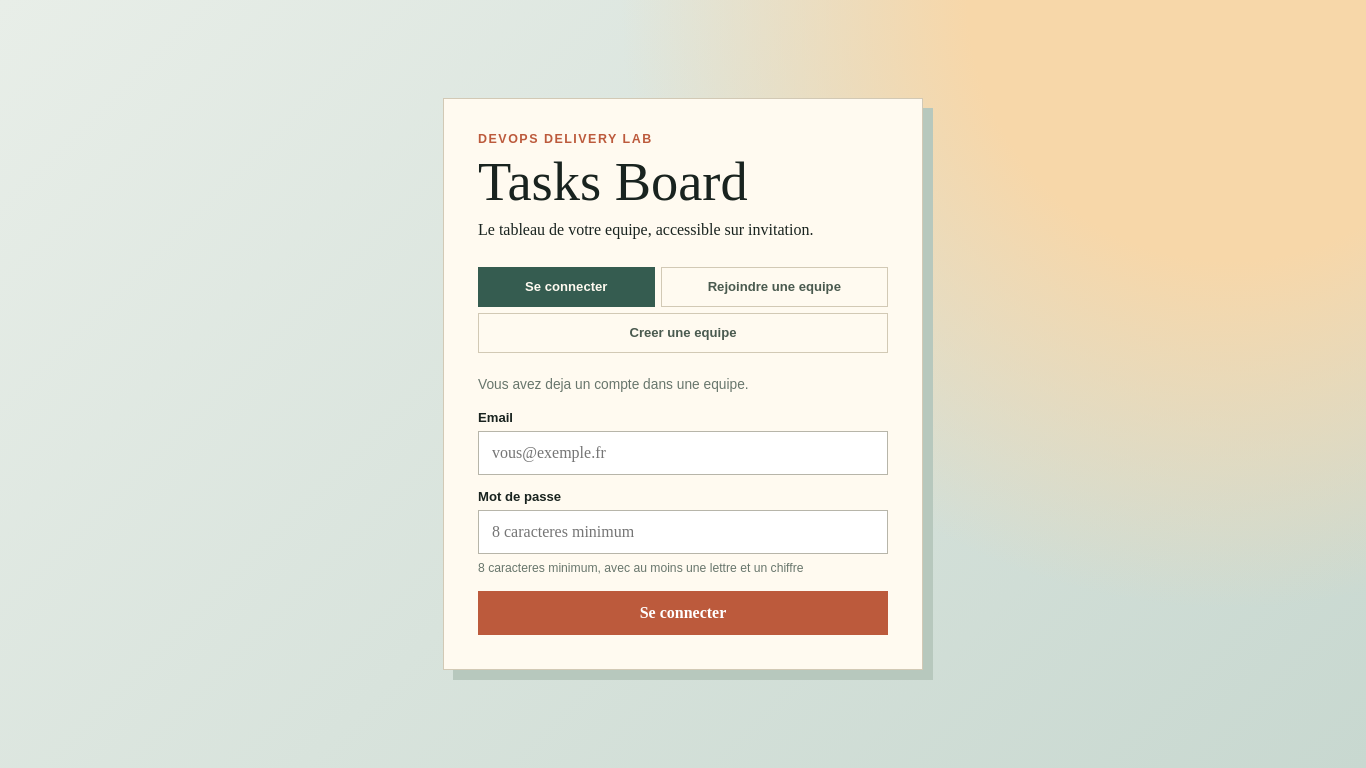
Test: Sans session › affiche le message d'erreur renvoye par l'API en cas d'identifiants faux
This screenshot has width=1366, height=768.
Step 1. Type "chef@tasks.local" into the field labelled "Email" → (683, 452), box [478,430,888,474]
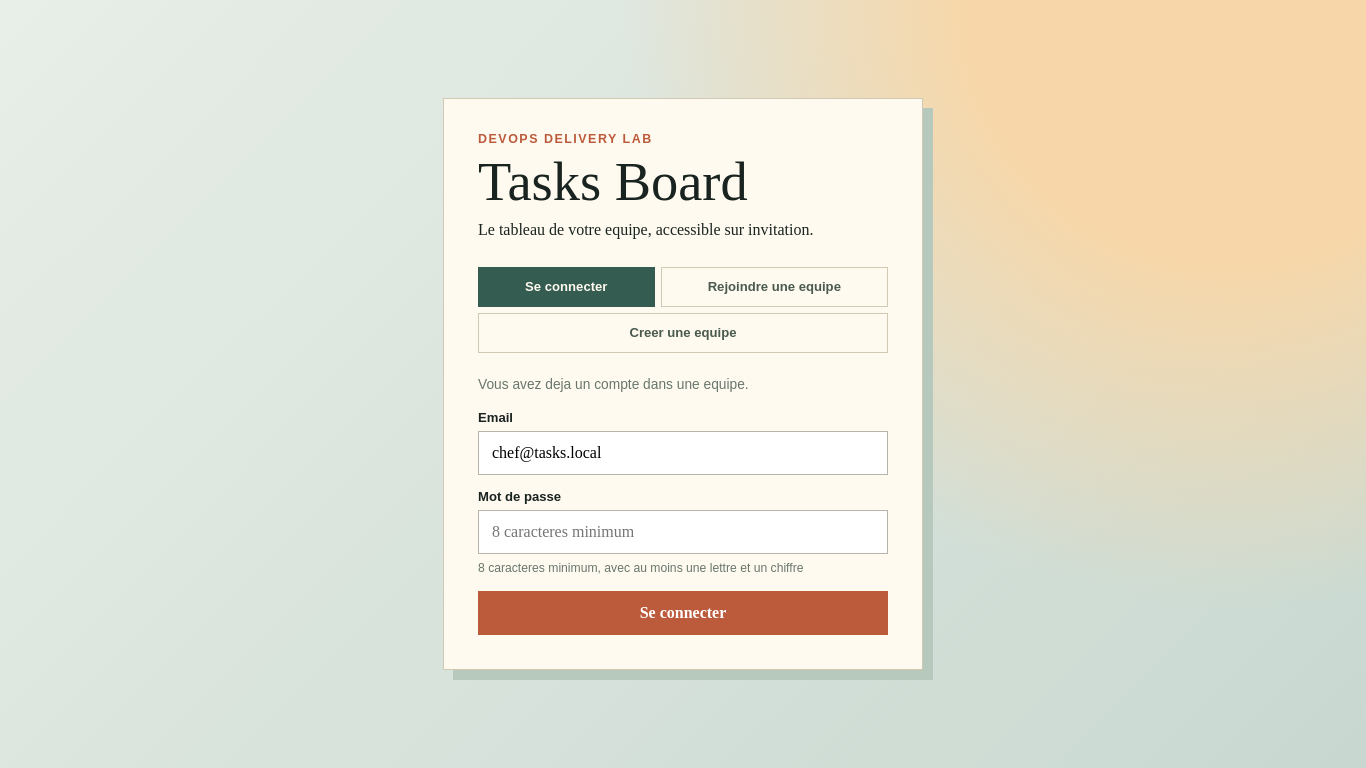
Step 2. Type "MauvaisMotdepasse1" into the password field labelled "Mot de passe" → (683, 532), box [478,510,888,554]
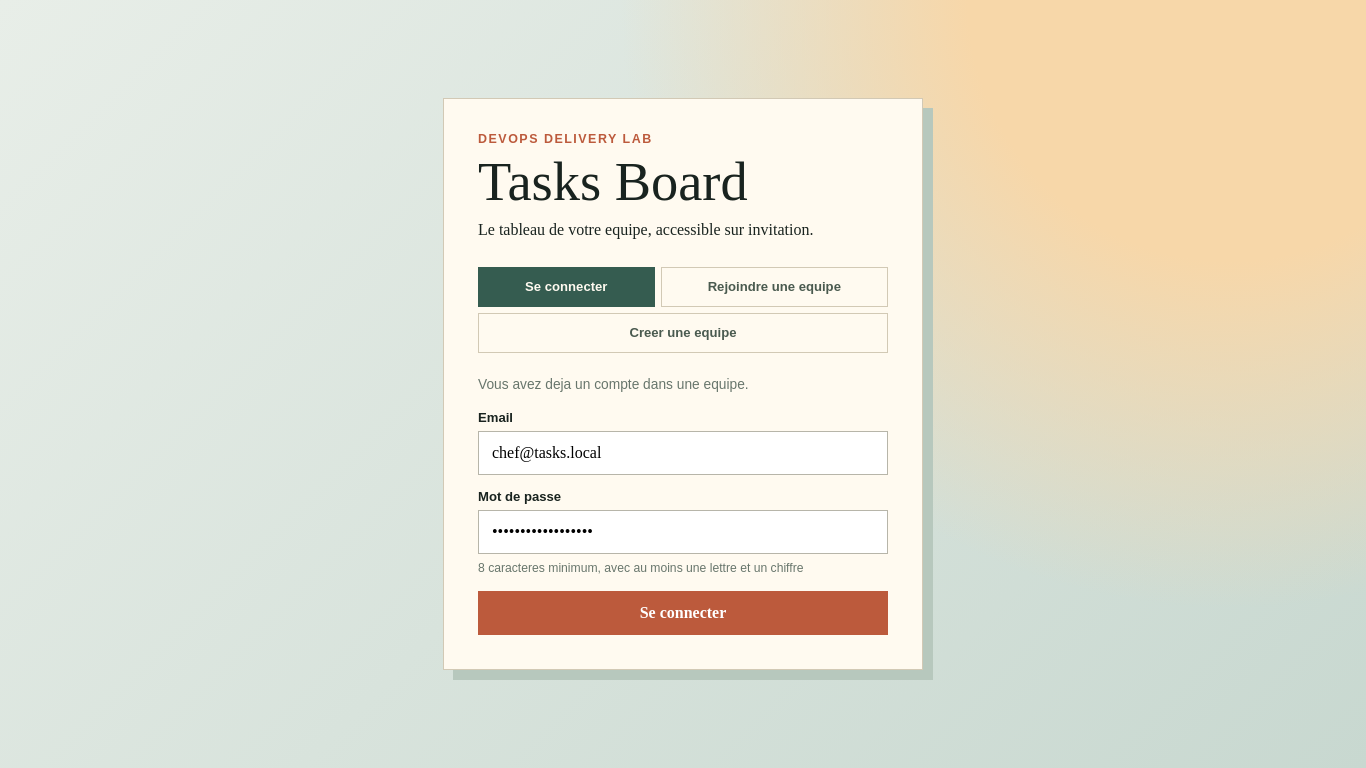
Step 3. Click the button "Se connecter" → (683, 612), box [478,590,888,634]
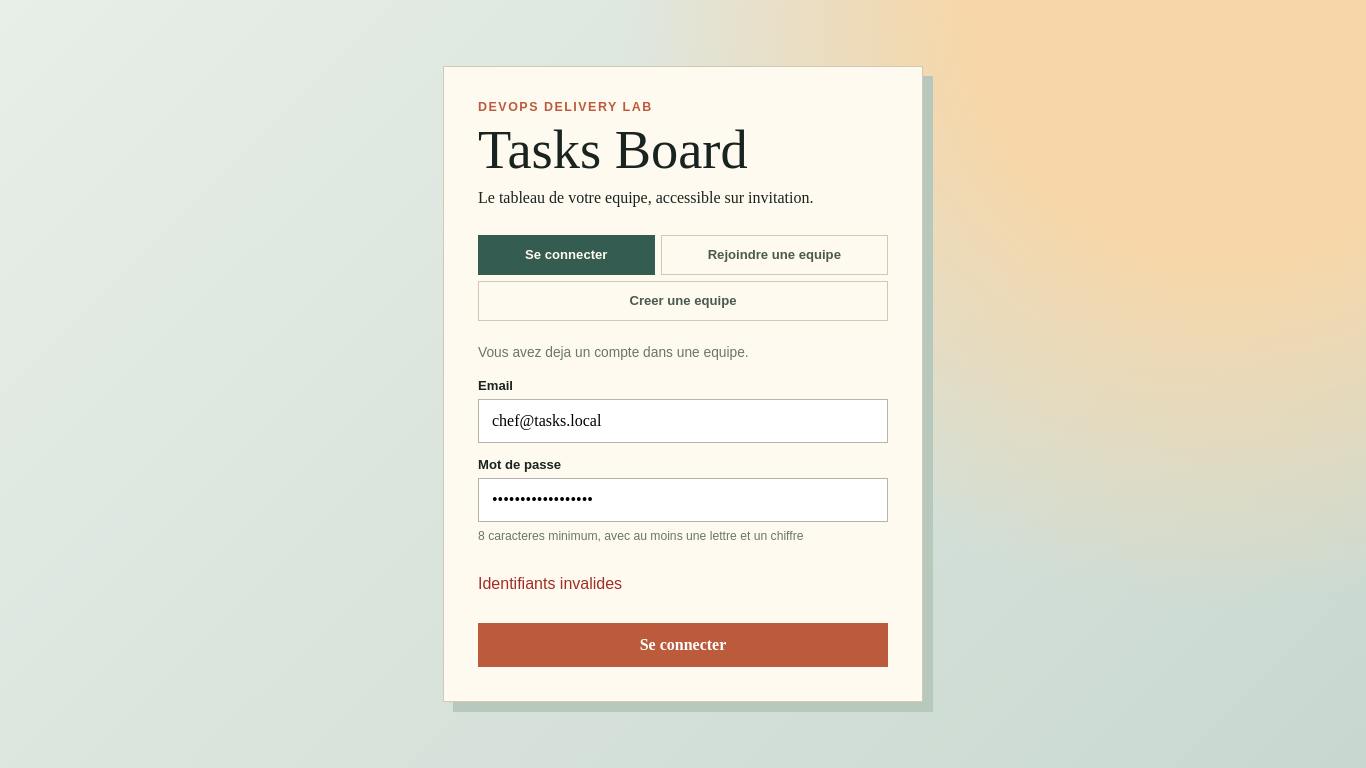
expect the message reads "Identifiants invalides": met, box [478,574,622,592]
